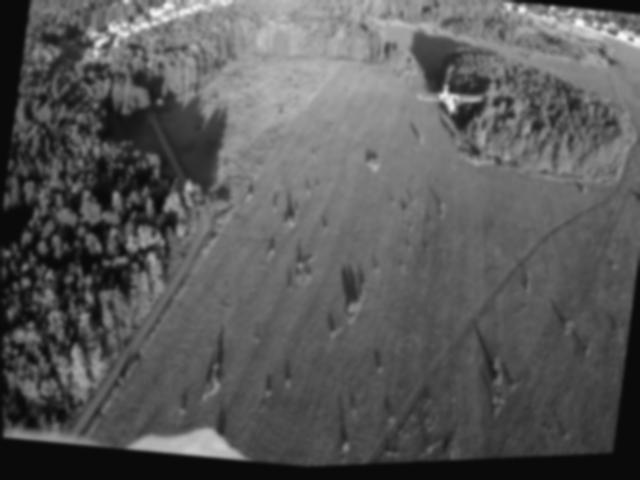hedef: (409, 78, 488, 129)
